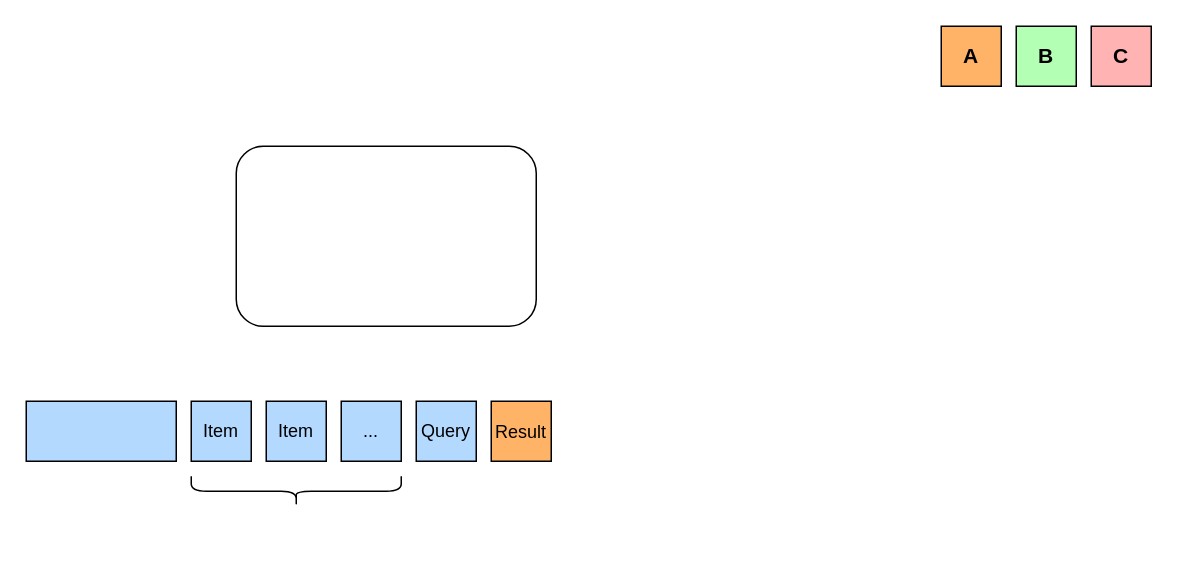
The diagram is 1178 pixels wide and 585 high, and some of its shapes have lost their labels. The box of each missing label's shape, as (x1, y1, x2, y2) in pixels:
history items candidate items: (190, 475, 401, 506)
LLM: (235, 145, 536, 326)
System Prompt: (25, 400, 176, 461)
